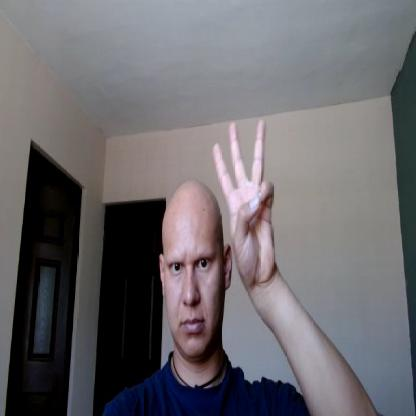W: (210, 117, 278, 285)
